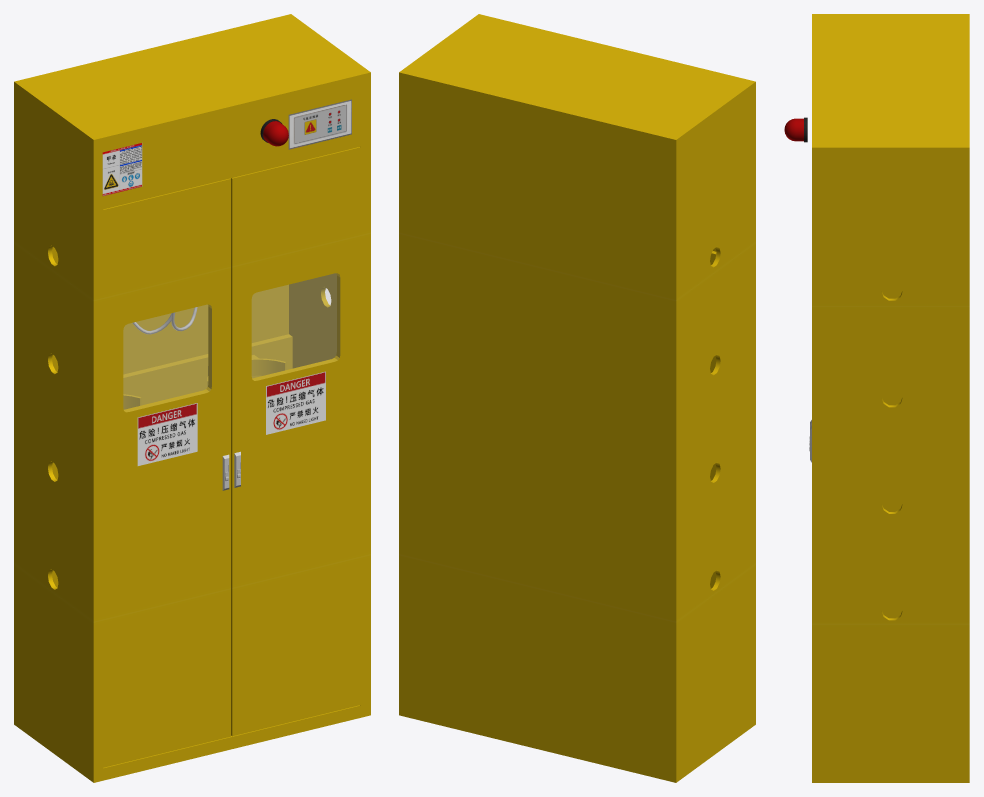
Rendered from SM_气瓶柜组件.FBX.
3 views of the same model, side by side, from view 1: azimuth 30°, elevation 25°; view 2: azimuth 150°, elevation 25°; view 3: azimuth 270°, elevation 25° (orthographic).
Parts seen in each view (by area): view 1: SM_实验室气瓶柜, SM_实验室气瓶柜左门, SM_实验室气瓶柜右门; view 2: SM_实验室气瓶柜; view 3: SM_实验室气瓶柜.
Part boxes in pixels (x1,y1,x2,y2): SM_实验室气瓶柜: (14,14,370,782); SM_实验室气瓶柜左门: (231,147,360,736); SM_实验室气瓶柜右门: (103,178,230,767); SM_实验室气瓶柜: (399,14,755,782); SM_实验室气瓶柜: (784,14,969,782).
Size of the model in its own units: 0.9023 by 2 by 0.5282.
